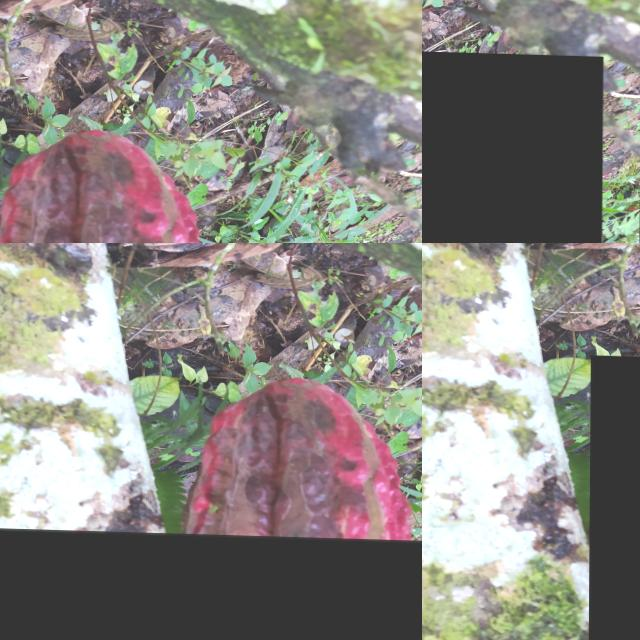Monilia: (422, 39, 603, 243), (323, 536, 422, 591)
Sana: (0, 528, 422, 640), (272, 457, 422, 546)
